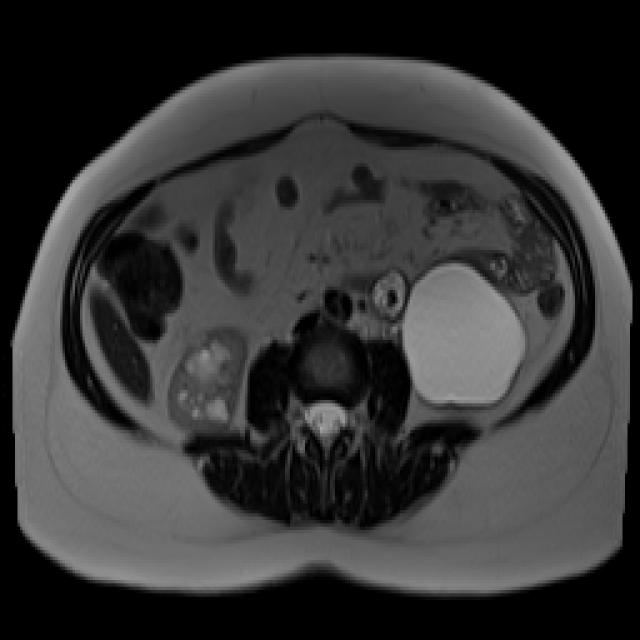sag: (165, 322, 249, 436)
sol: (401, 260, 531, 407)
